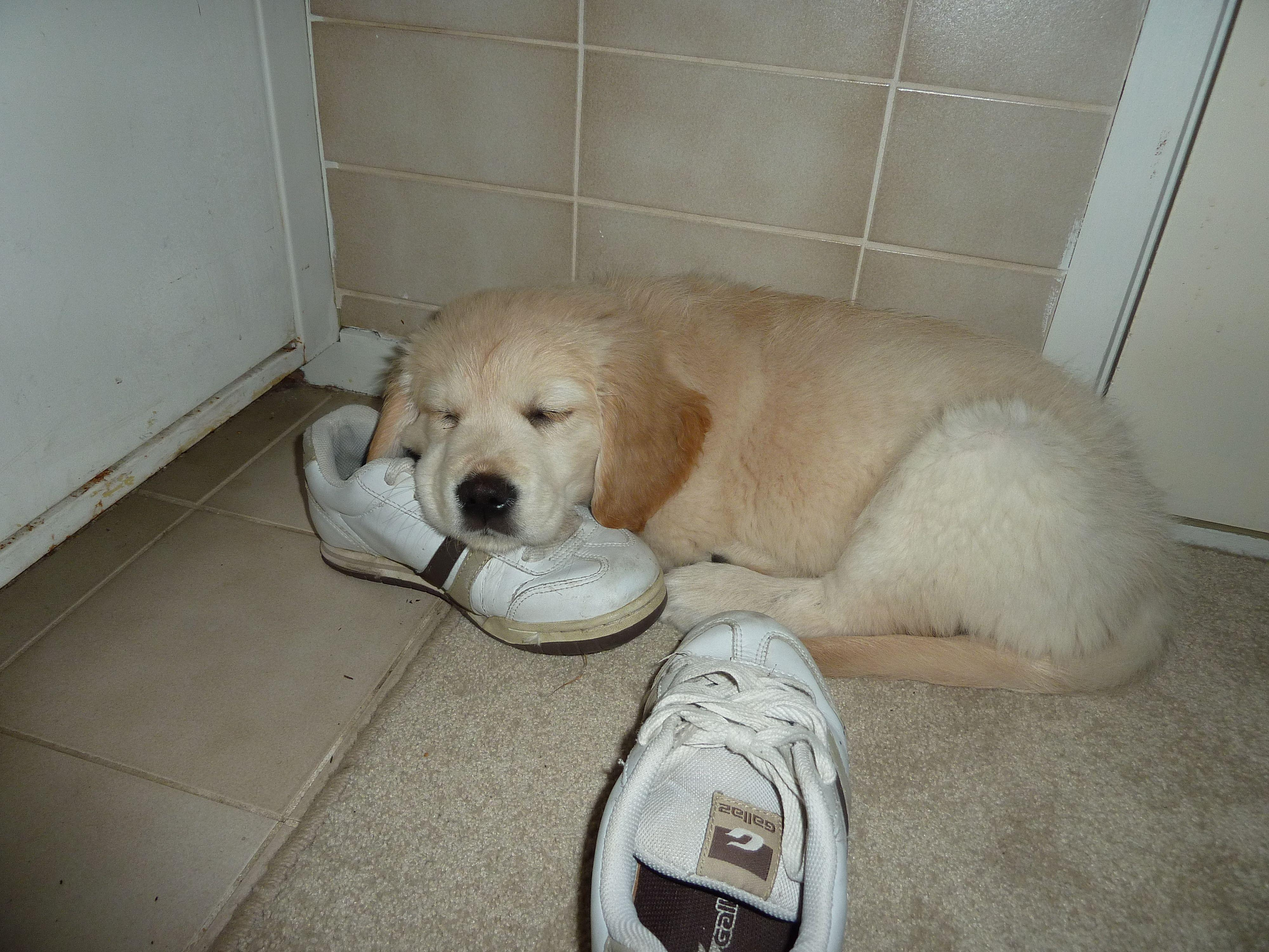puppy-dog: (357, 269, 1193, 709)
